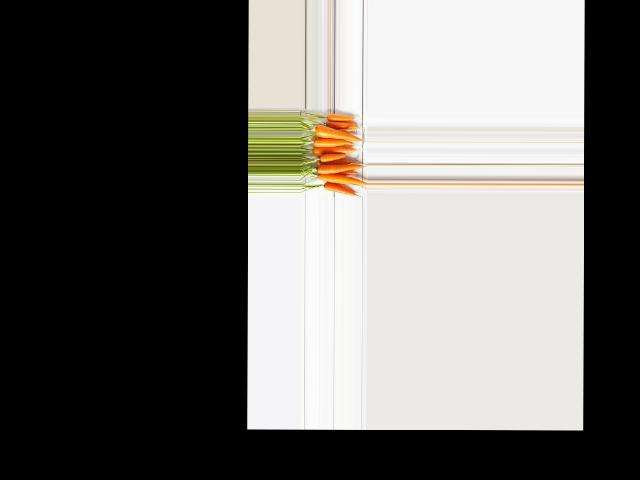carrot: (324, 111, 358, 124)
